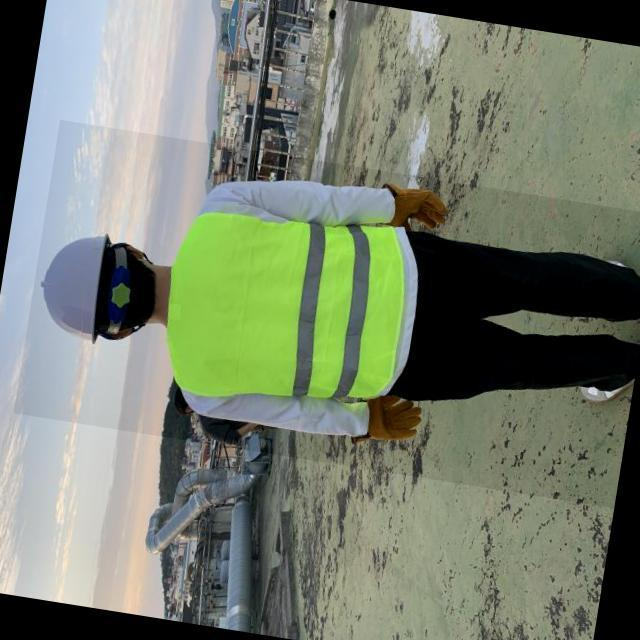Gloves: (354, 388, 432, 462), (383, 174, 453, 239)
Helmet: (28, 224, 122, 347)
Person: (15, 164, 640, 481)
Safety Boot: (573, 375, 640, 408)
Safety Vest: (157, 206, 426, 408)
